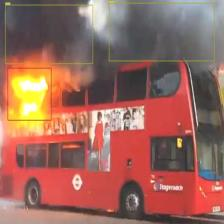fire: (8, 68, 52, 120)
smoke: (109, 3, 214, 61), (5, 4, 93, 64)
